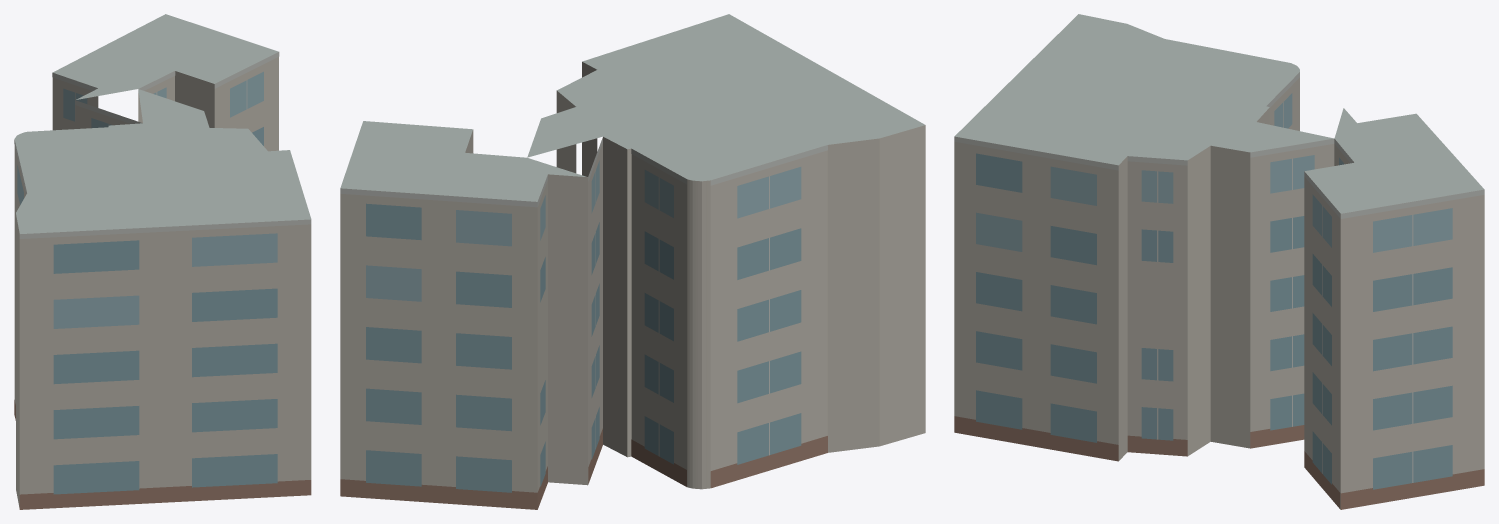
The model's file is survey-upis-32763776.glb.
3 renders of one model, left to right at view 1: azimuth 30°, elevation 25°; view 2: azimuth 150°, elevation 25°; view 3: azimuth 270°, elevation 25°, orthographic. The views are drawn at different scales.
Visible parts, largest first — view 1: survey-upis-32763776.tmp; view 2: survey-upis-32763776.tmp; view 3: survey-upis-32763776.tmp.
Boxes of the visible parts, x1,y1,x2,y2 form: survey-upis-32763776.tmp: (14,14,311,509); survey-upis-32763776.tmp: (340,14,925,509); survey-upis-32763776.tmp: (954,14,1484,509).
Size of the model in its own units: 19.98 by 13.8 by 22.41.
